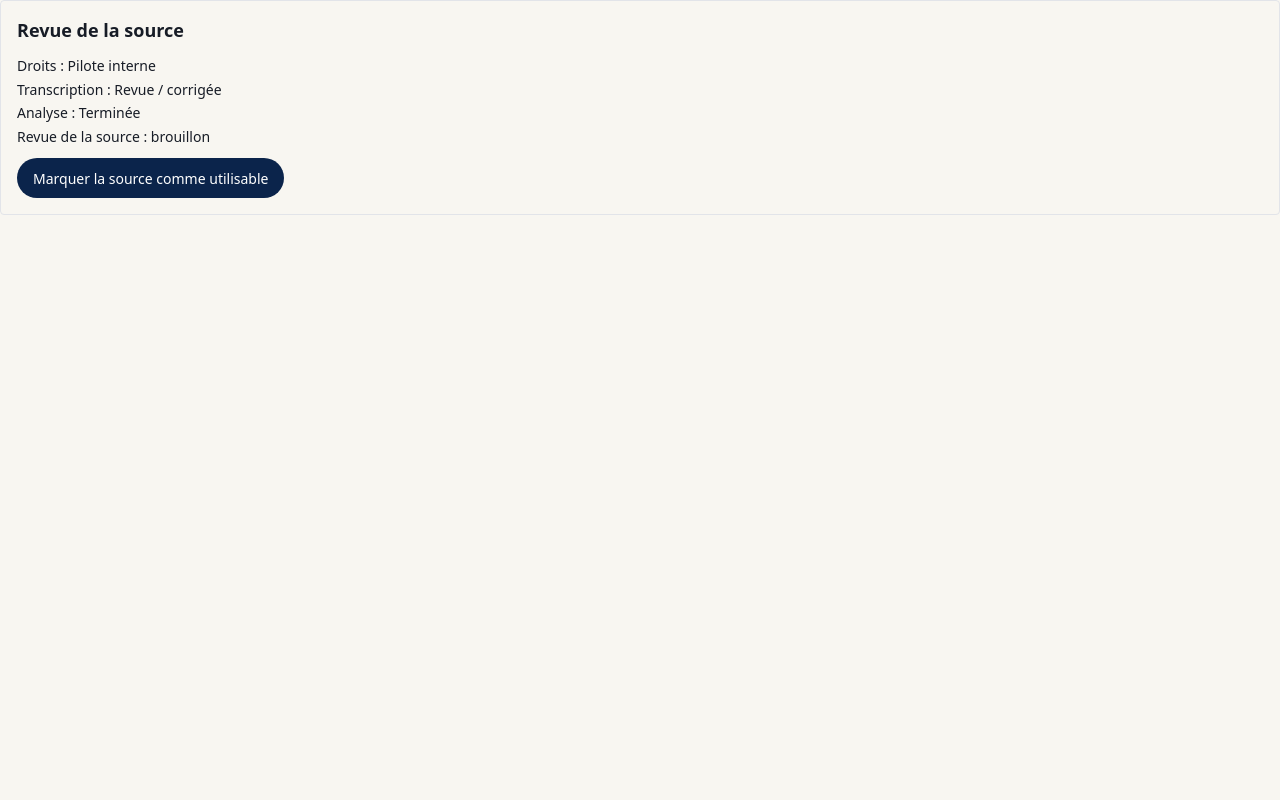
Test: explicit source review › displays server refusal SOURCE_FORBIDDEN
Later steps or results of the test are not shown.
Click the button "Marquer la source comme utilisable" at [151, 178], box [17,158,284,198]
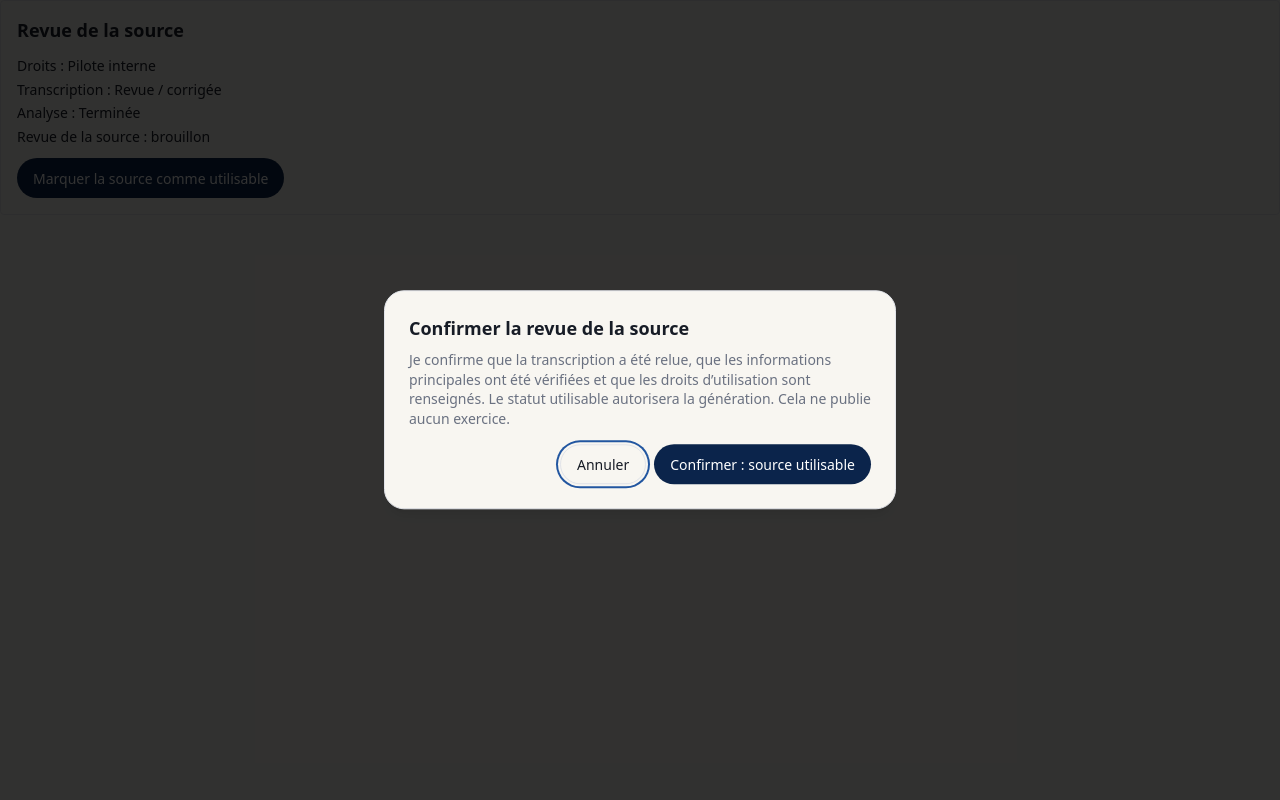
Check: the button "Confirmer : source utilisable" is shown, box [654,445,871,485]
